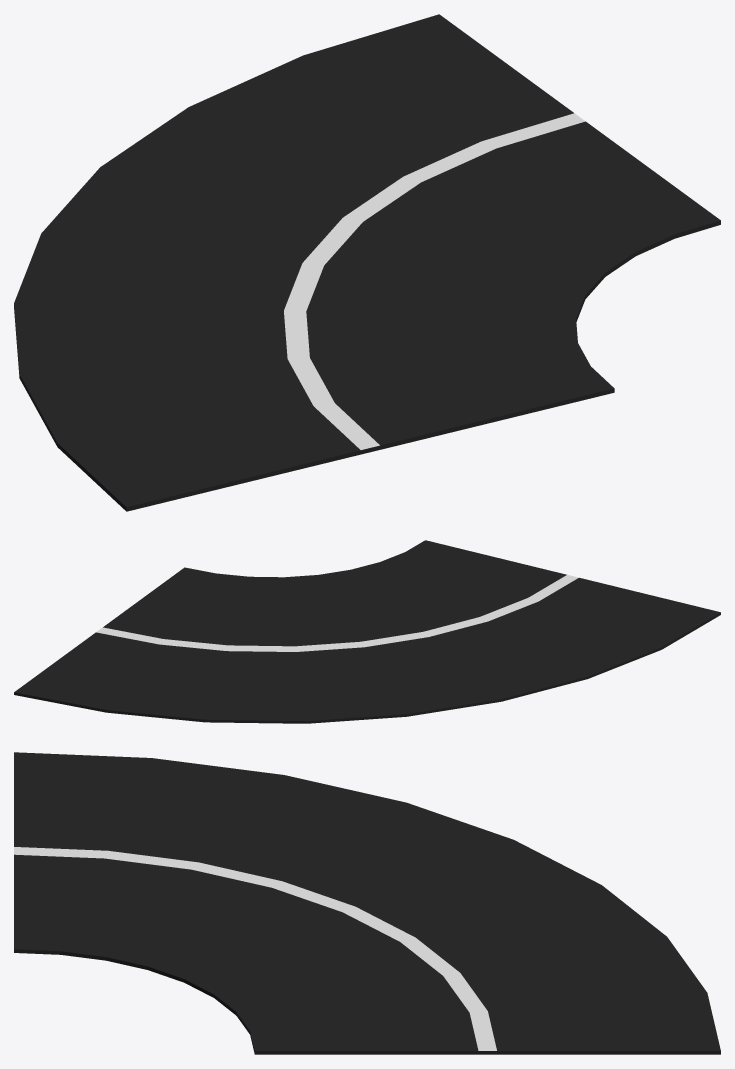
Rendered from airport-runway-curve-tight.glb.
The picture shows the model from 3 angles, top to bottom: view 1: azimuth 30°, elevation 25°; view 2: azimuth 150°, elevation 25°; view 3: azimuth 270°, elevation 25°; orthographic projection. The views are drawn at different scales.
Visible parts, largest first — view 1: LandingTrack4Curve3_AIRPORT_0; view 2: LandingTrack4Curve3_AIRPORT_0; view 3: LandingTrack4Curve3_AIRPORT_0.
Part boxes in pixels (box(x1,y1,x2,y2)): LandingTrack4Curve3_AIRPORT_0: box(14, 14, 720, 511); LandingTrack4Curve3_AIRPORT_0: box(14, 540, 720, 723); LandingTrack4Curve3_AIRPORT_0: box(14, 752, 720, 1054).
Size of the model in its own units: 124 by 0.7 by 124.
1 material, 1 textured.
